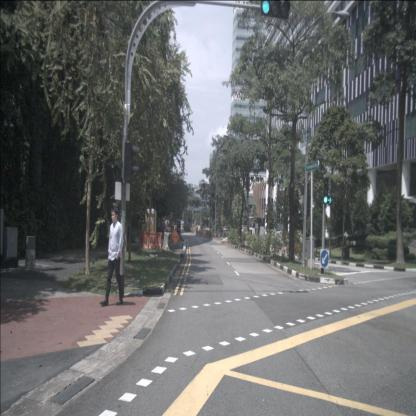barrier: (138, 232, 162, 250), (162, 232, 171, 251), (206, 230, 212, 238), (202, 230, 206, 238)
